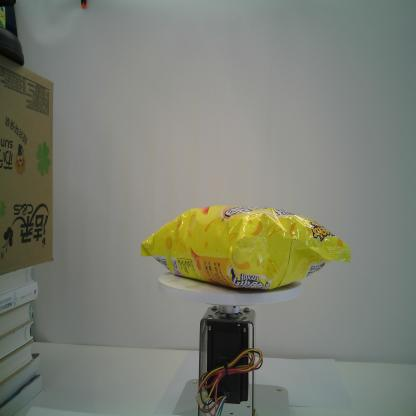Puffed Food: (139, 201, 349, 289)
